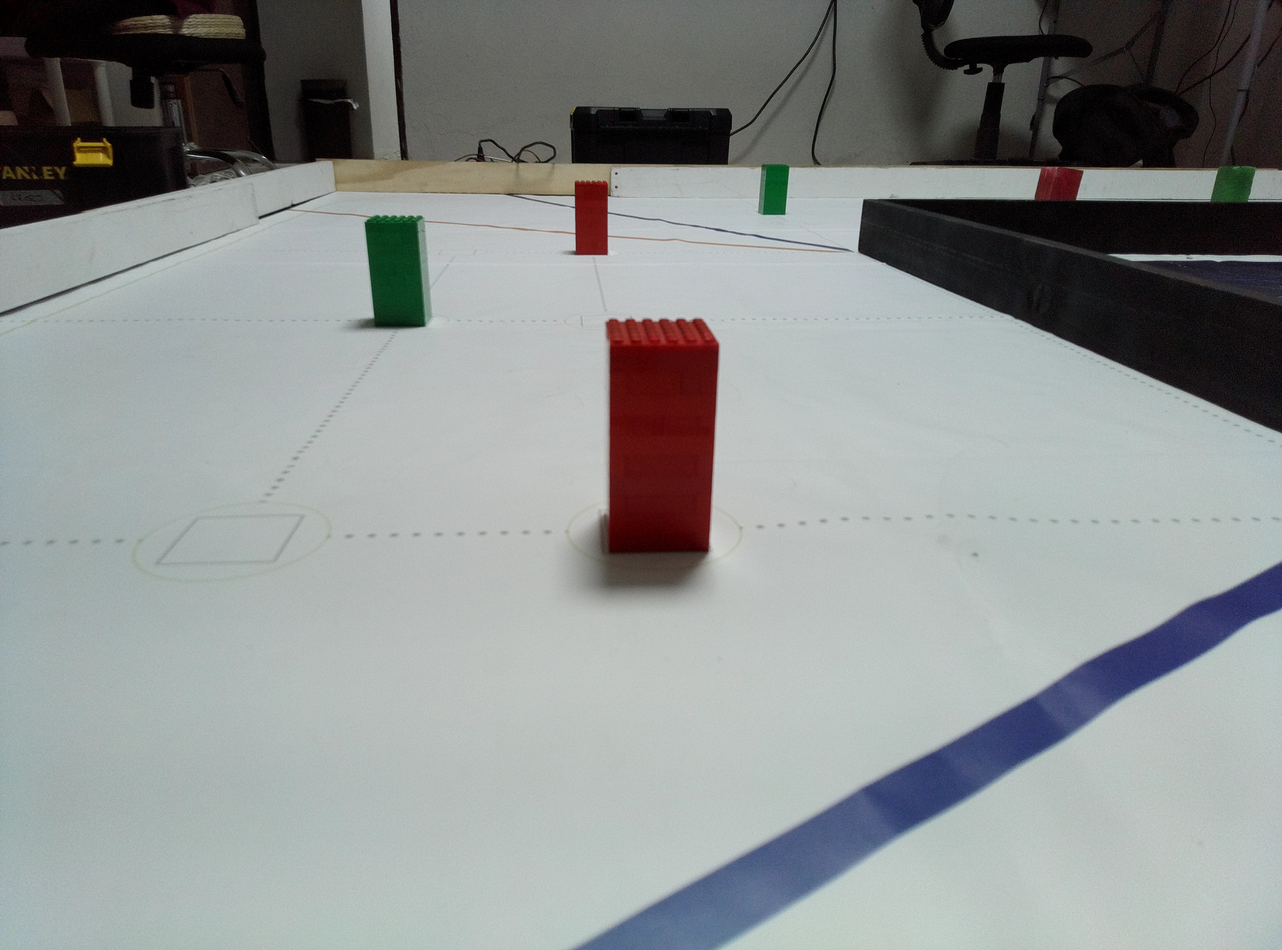greenbox: (363, 215, 434, 330), (758, 163, 791, 216), (1209, 166, 1257, 202)
redbox: (603, 316, 720, 556), (573, 179, 609, 256), (1033, 166, 1085, 201)
